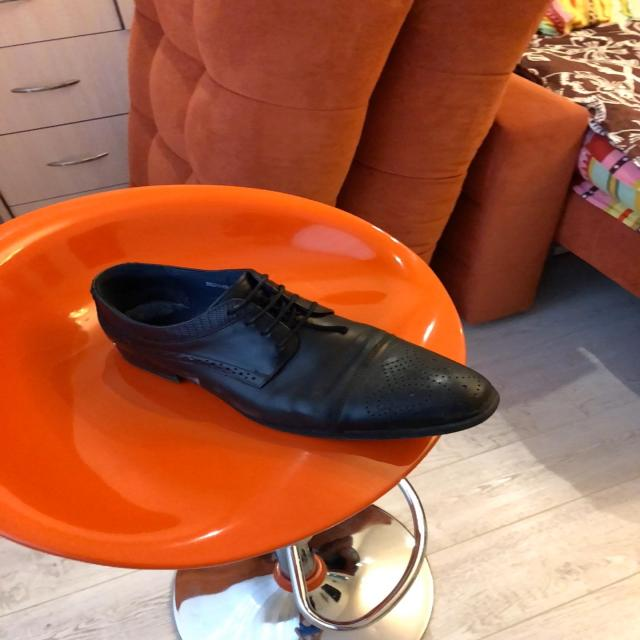shoe: (90, 263, 500, 442)
